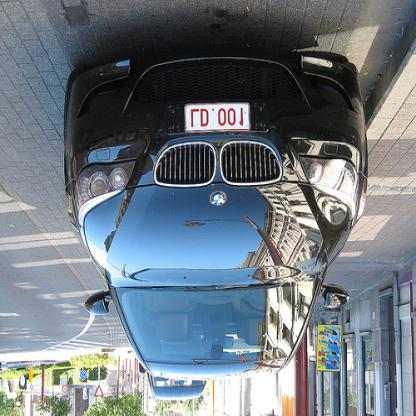car: (58, 39, 372, 394), (147, 372, 207, 403)
